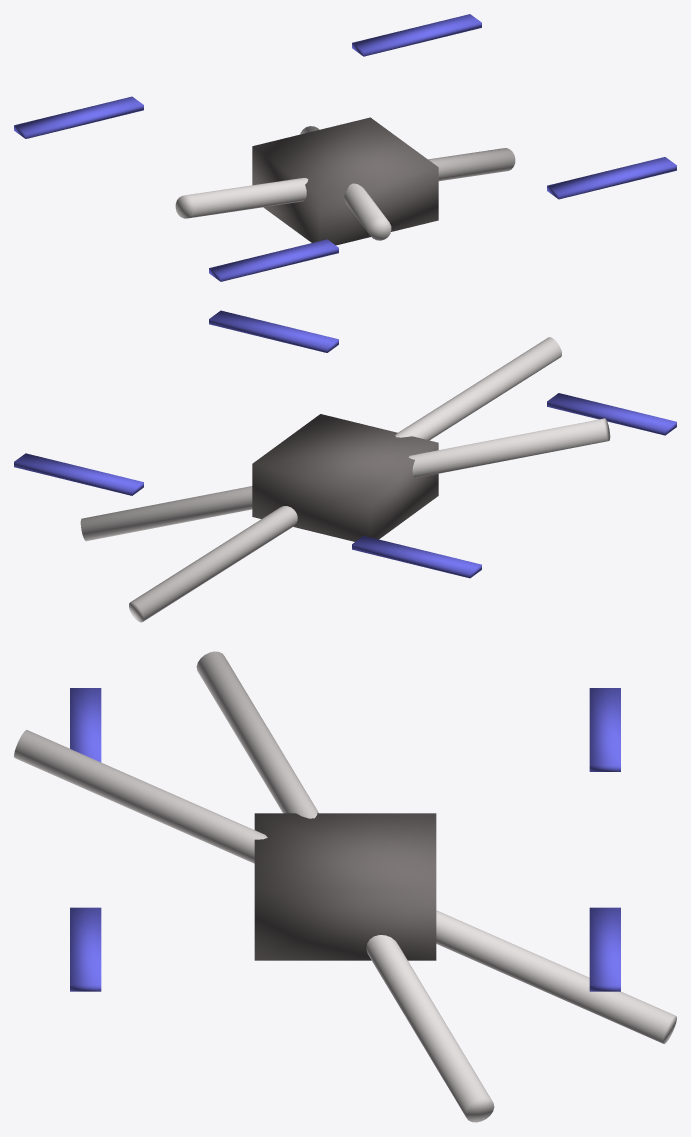
Rendered from drone.glb.
The picture shows the model from 3 angles, top to bottom: view 1: azimuth 30°, elevation 25°; view 2: azimuth 150°, elevation 25°; view 3: azimuth 270°, elevation 25°; orthographic projection. The views are drawn at different scales.
Parts seen in each view (by area): view 1: hub, arm1, prop_0.5_-0.5, prop_-0.5_0.5, prop_-0.5_-0.5, prop_0.5_0.5, arm2; view 2: hub, arm1, arm2, prop_0.5_-0.5, prop_-0.5_-0.5, prop_0.5_0.5, prop_-0.5_0.5; view 3: hub, arm2, arm1, prop_0.5_-0.5, prop_0.5_0.5, prop_-0.5_-0.5, prop_-0.5_0.5.
Boxes of the visible parts, x1,y1,x2,y2 form: hub: [252, 117, 438, 245]; arm1: [175, 148, 515, 218]; prop_0.5_-0.5: [352, 14, 481, 56]; prop_-0.5_0.5: [209, 239, 338, 281]; prop_-0.5_-0.5: [14, 96, 143, 138]; prop_0.5_0.5: [547, 157, 676, 199]; arm2: [300, 126, 391, 240]; hub: [252, 414, 438, 541]; arm1: [80, 418, 610, 541]; arm2: [129, 337, 561, 622]; prop_0.5_-0.5: [14, 453, 143, 495]; prop_-0.5_-0.5: [352, 535, 481, 578]; prop_0.5_0.5: [209, 310, 338, 352]; prop_-0.5_0.5: [547, 393, 676, 435]; hub: [254, 813, 436, 960]; arm2: [14, 730, 676, 1043]; arm1: [196, 651, 494, 1122]; prop_0.5_-0.5: [589, 907, 620, 991]; prop_0.5_0.5: [70, 907, 101, 991]; prop_-0.5_-0.5: [589, 688, 620, 771]; prop_-0.5_0.5: [70, 688, 101, 762].
Bounding box in the file's own units: 1.35 × 0.4235 × 1.28.
